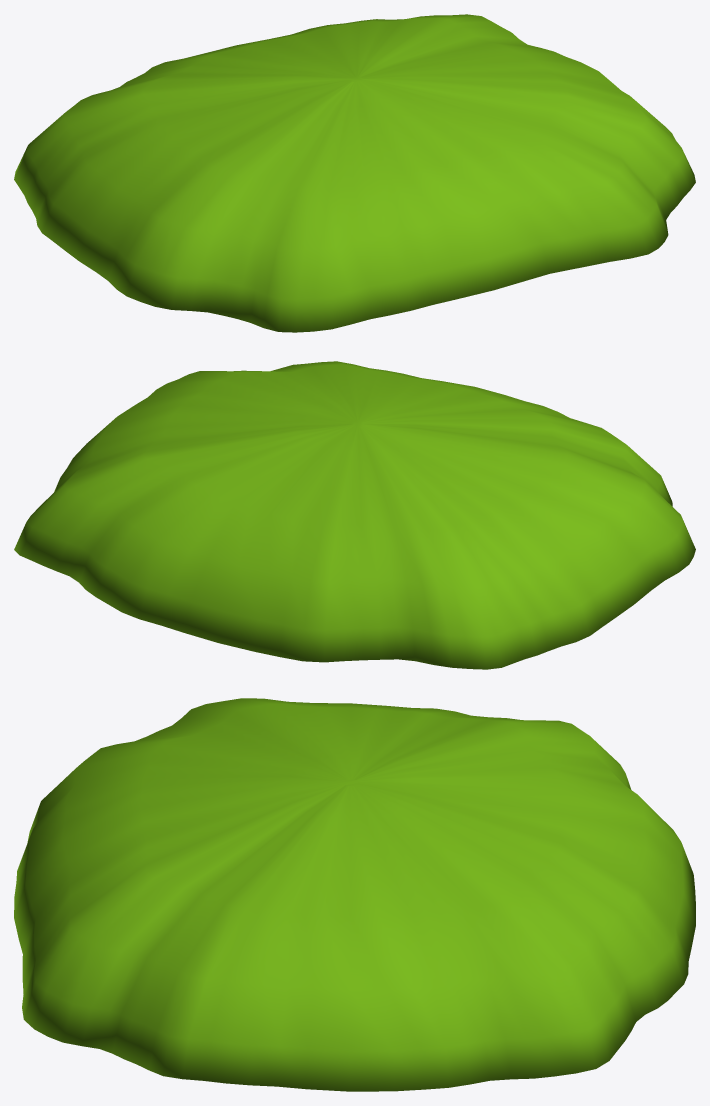
File: lime-mound.glb
3 views of the same model, one above another, from view 1: azimuth 30°, elevation 25°; view 2: azimuth 150°, elevation 25°; view 3: azimuth 270°, elevation 25° (orthographic). The views are drawn at different scales.
Visible parts, largest first — view 1: Lime jelly stepping mound; view 2: Lime jelly stepping mound; view 3: Lime jelly stepping mound.
Part boxes in pixels (x1,y1,x2,y2): Lime jelly stepping mound: (14,14,695,332); Lime jelly stepping mound: (14,361,695,669); Lime jelly stepping mound: (14,698,695,1091).
Bounding box in the file's own units: 4.26 × 0.942 × 3.63.
